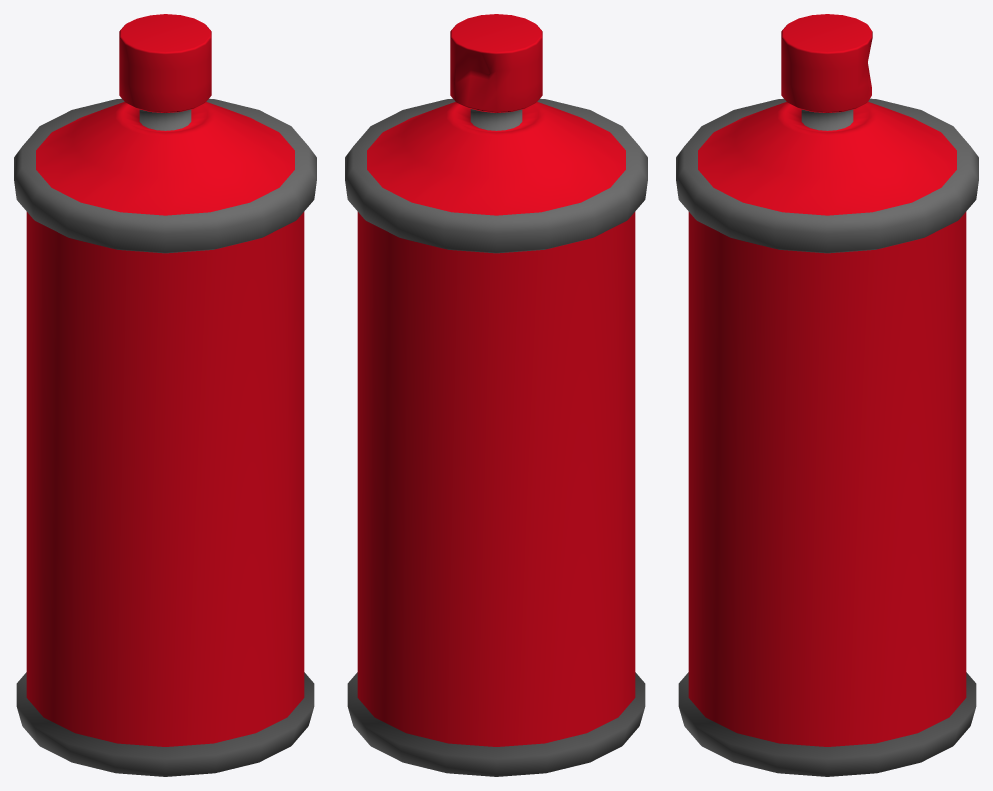
The model's file is spraycan.fbx.
3 views of the same model, side by side, from view 1: azimuth 30°, elevation 25°; view 2: azimuth 150°, elevation 25°; view 3: azimuth 270°, elevation 25° (orthographic).
Visible parts, largest first — view 1: spraycan; view 2: spraycan; view 3: spraycan.
Boxes of the visible parts, bbox=[...] form: spraycan: bbox=[14, 14, 316, 776]; spraycan: bbox=[345, 14, 647, 776]; spraycan: bbox=[676, 14, 978, 776].
Size of the model in its own units: 1.6 by 3.93 by 1.57.
